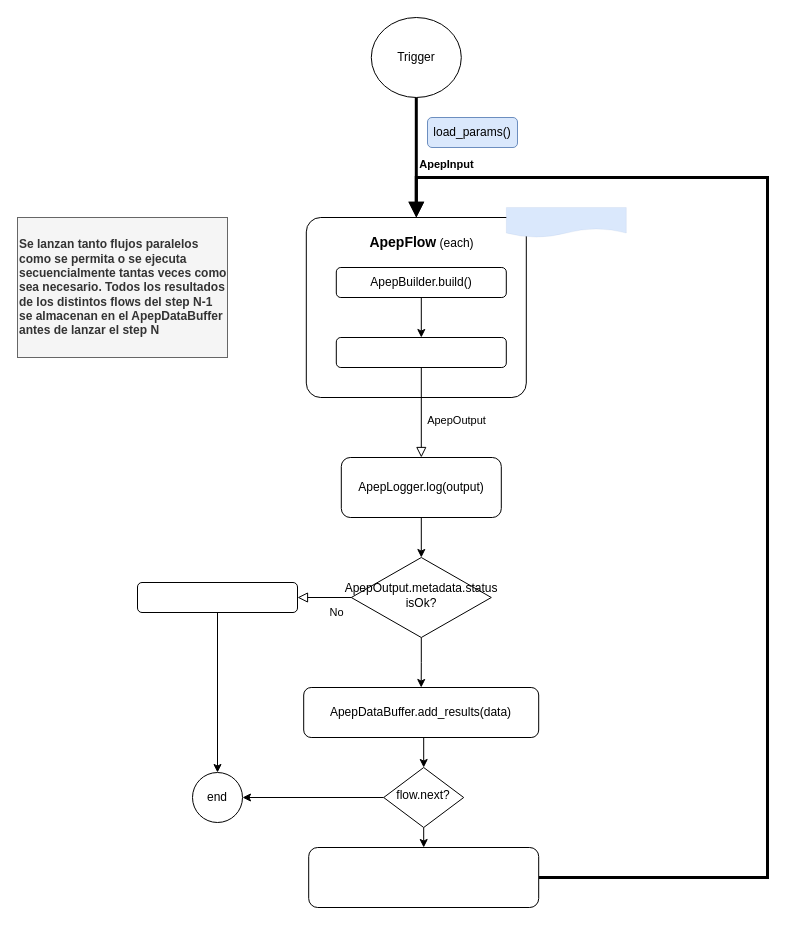
The diagram is 796 pixels wide and 925 high, and some of its shapes have lost their labels. Each missing label, with the centre of its shape:
"ApepFlow.callback()" belongs at point (217, 597).
"ApepFlow.execute()" belongs at point (420, 352).
"ApepParams" belongs at point (566, 222).
"for ApepData in ApepDataBuffer: ApepInput(ApepData, mapper)" belongs at point (423, 877).
